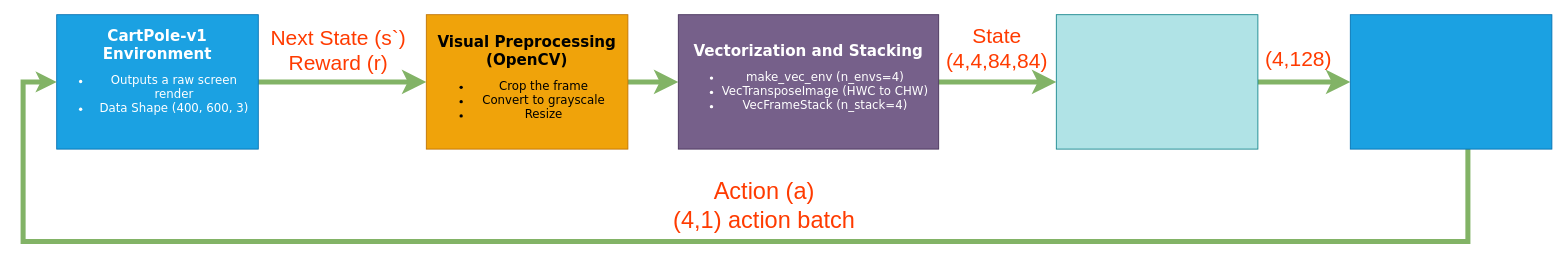
This 1567x265 diagram has some shape labels left out. The shapes that lost their labels are listed below. From the top down, each one's centre as x and y in pixels, then its label:
(1156,81): Custom CNN (Feature Extractor) 3 Conv2D layers
(1450,81): PPO Policy Fully connected layer to decide the action
